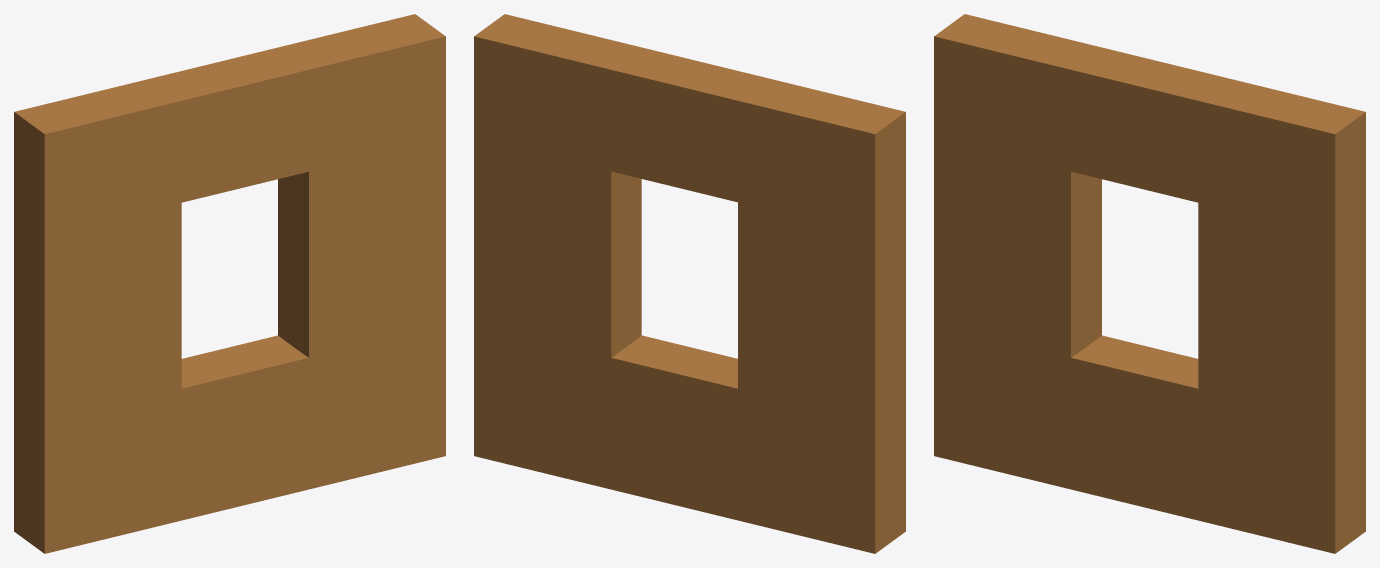
3 views of the same model, side by side, from view 1: azimuth 30°, elevation 25°; view 2: azimuth 150°, elevation 25°; view 3: azimuth 330°, elevation 25° (orthographic).
Parts seen in each view (by area): view 1: I-7; view 2: I-7; view 3: I-7.
Part boxes in pixels (left/top/right/bottom): I-7: left=14, top=14, right=445, bottom=553; I-7: left=474, top=14, right=905, bottom=553; I-7: left=934, top=14, right=1365, bottom=553.
Size of the model in its own units: 612 by 612 by 80.81.
